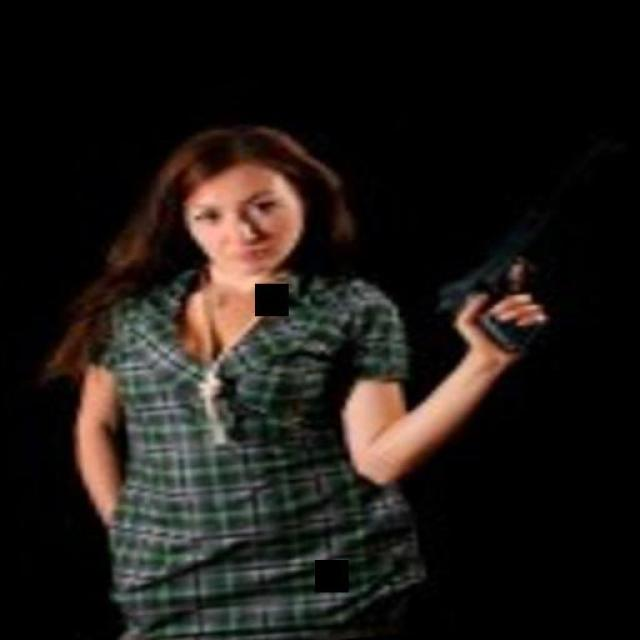gun: (410, 218, 551, 374)
